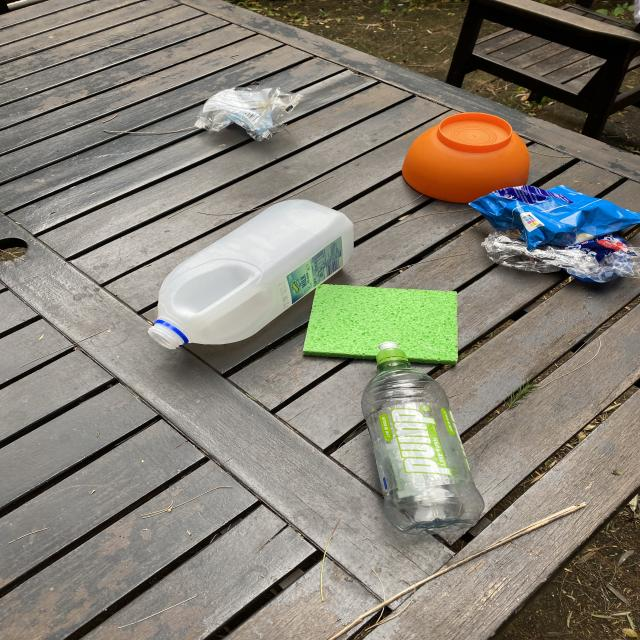bag: (468, 184, 640, 250), (481, 229, 598, 273)
bottle: (148, 200, 354, 349), (361, 341, 484, 534)
bowl: (401, 111, 531, 202)
sponge: (302, 284, 468, 364)
wrappers: (194, 87, 304, 141), (564, 234, 640, 284)
